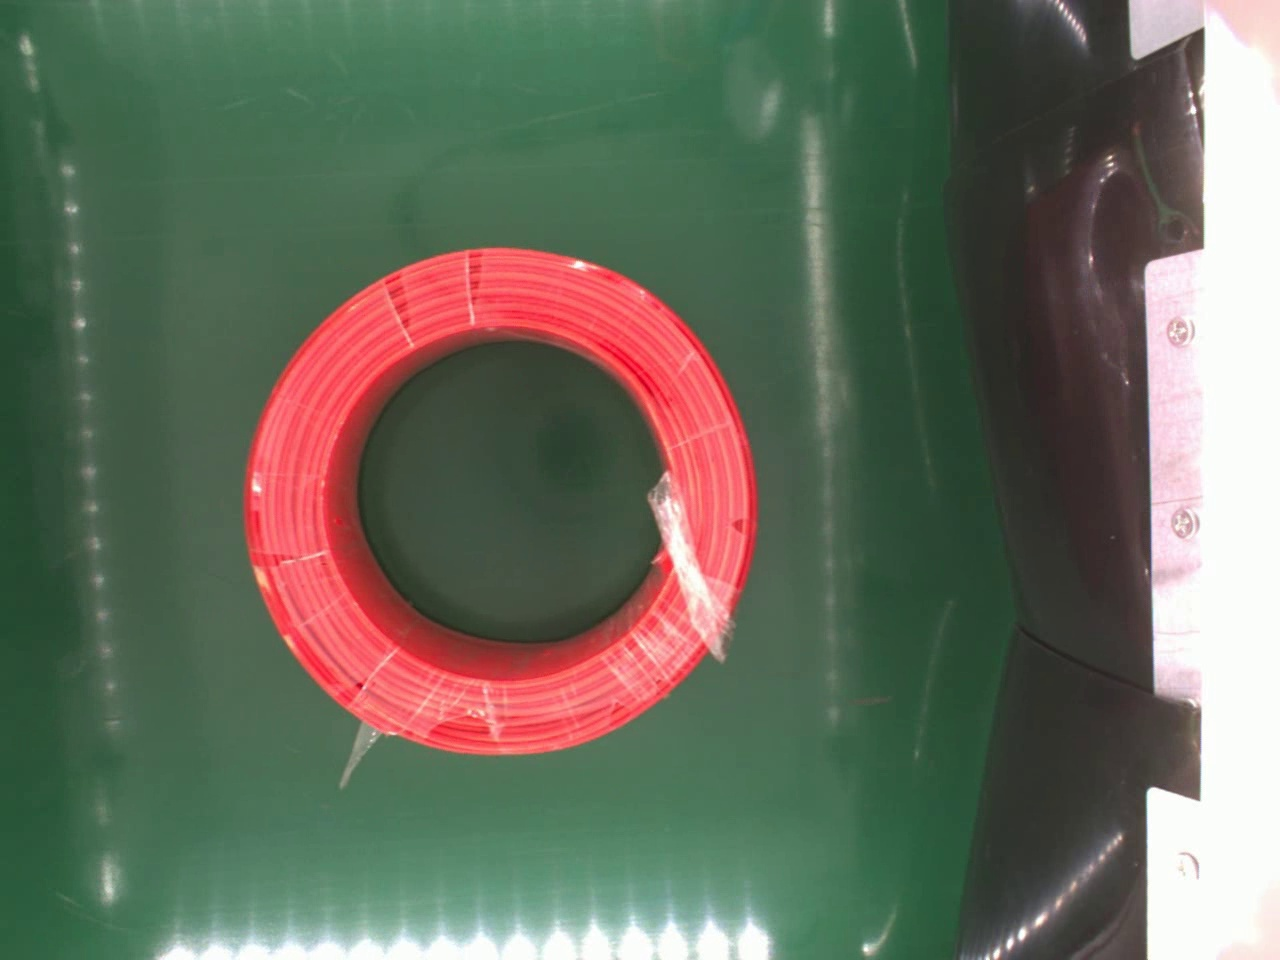red: (239, 241, 761, 763)
